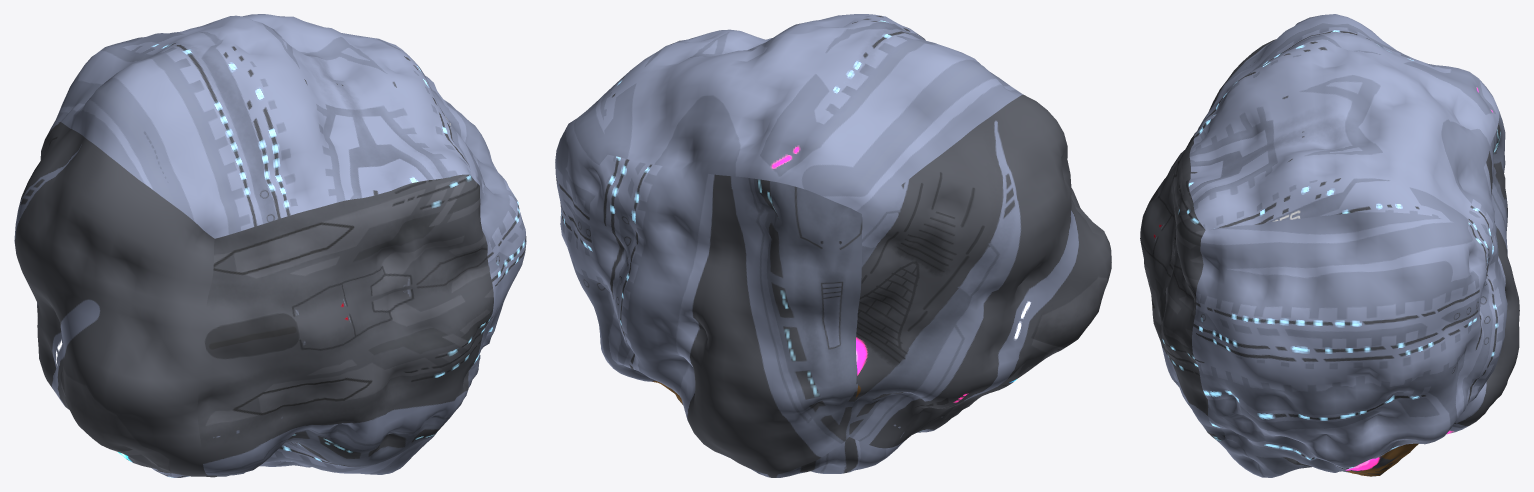
The picture shows the model from 3 angles, left to right: view 1: azimuth 30°, elevation 25°; view 2: azimuth 150°, elevation 25°; view 3: azimuth 270°, elevation 25°; orthographic projection. The views are drawn at different scales.
Parts seen in each view (by area): view 1: Object_2; view 2: Object_2; view 3: Object_2.
Part boxes in pixels (x1,y1,x2,y2): Object_2: (14,14,526,477); Object_2: (555,14,1111,477); Object_2: (1140,14,1519,477).
Bounding box in the file's own units: 1.83 × 1.64 × 1.45.
